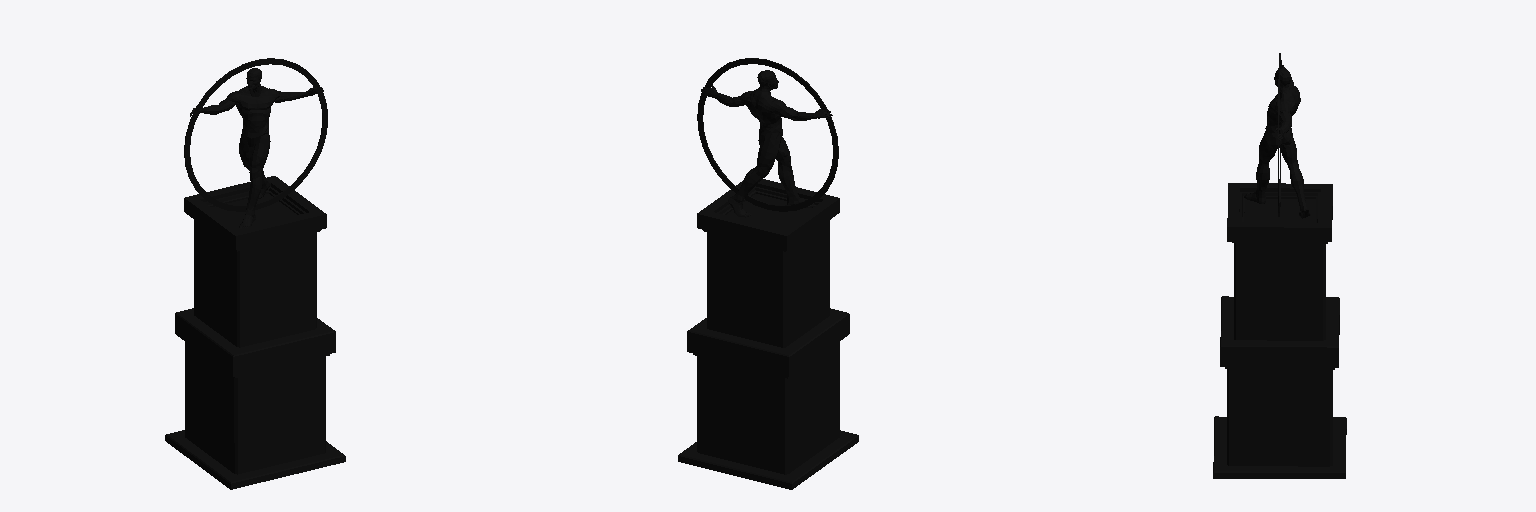
Rendered from statue.obj.
3 views of the same model, side by side, from view 1: azimuth 30°, elevation 25°; view 2: azimuth 150°, elevation 25°; view 3: azimuth 270°, elevation 25° (orthographic).
Parts seen in each view (by area): view 1: F3_Monumen; view 2: F3_Monumen; view 3: F3_Monumen.
Boxes of the visible parts, x1,y1,x2,y2 form: F3_Monumen: [165, 58, 345, 489]; F3_Monumen: [678, 58, 858, 489]; F3_Monumen: [1213, 53, 1346, 478].
Bounding box in the file's own units: 2637 × 6925 × 2137.